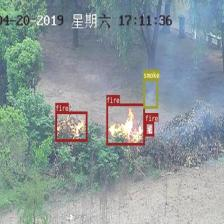fire: (106, 103, 145, 145), (55, 111, 87, 141), (145, 121, 154, 136)
smoke: (143, 78, 158, 108)
